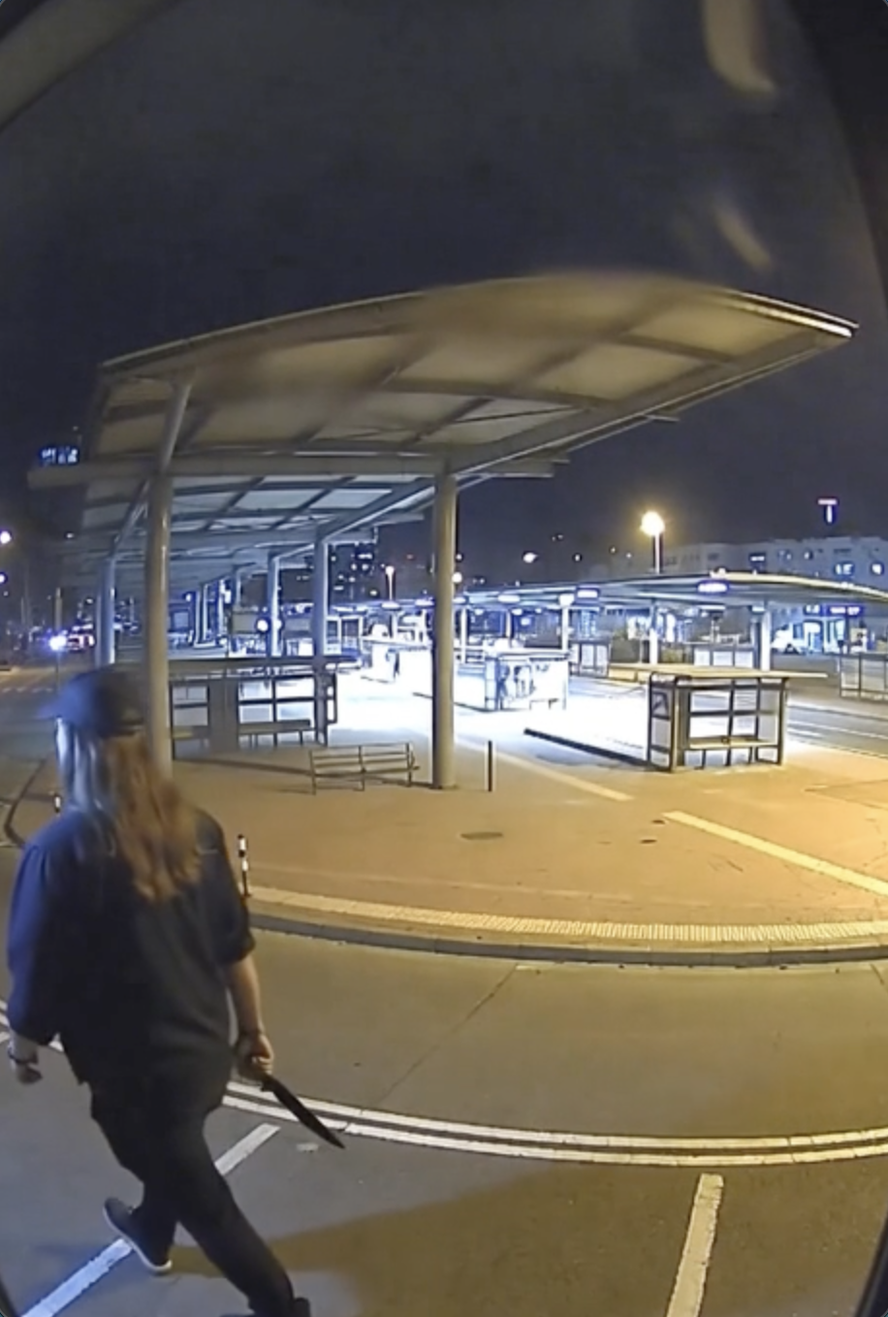Heavy Gun: (3, 662, 373, 1317)
Knife: (220, 1033, 348, 1153)
